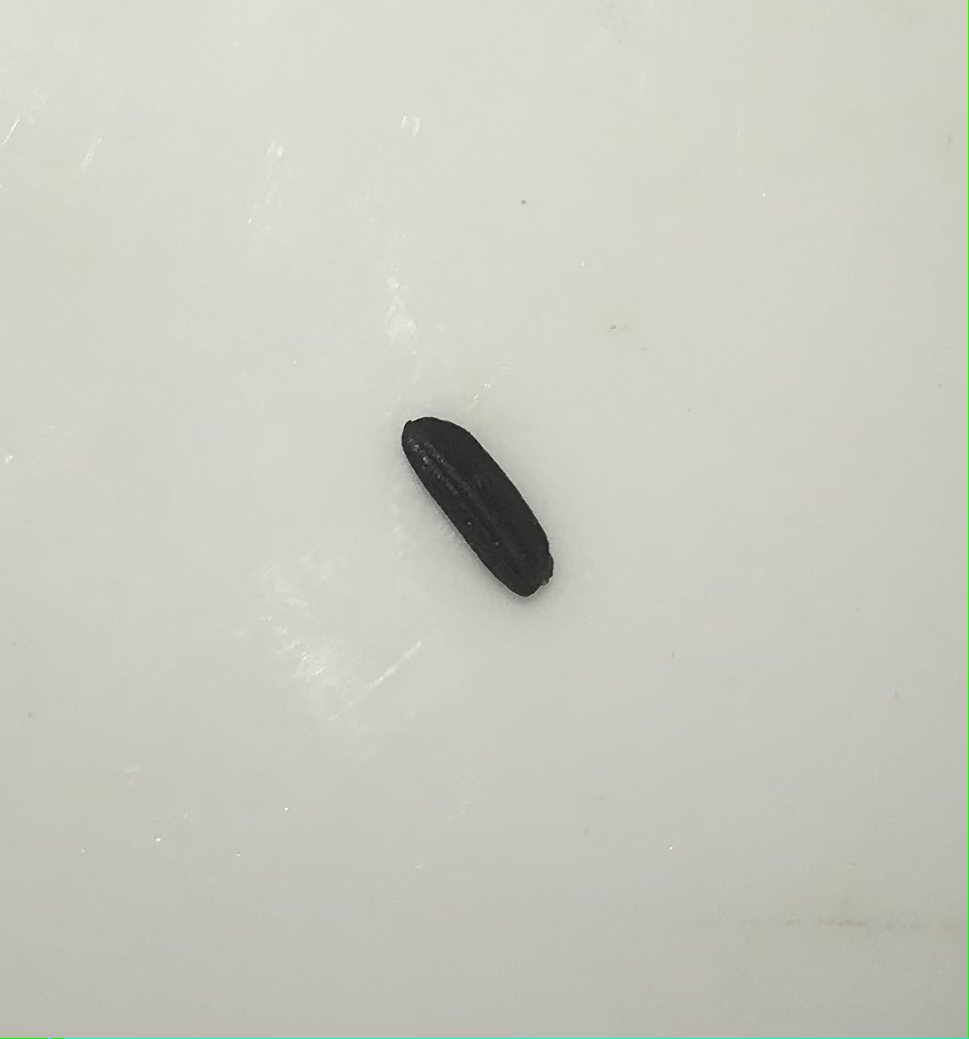Gao Nep Cam: (371, 390, 573, 599)
